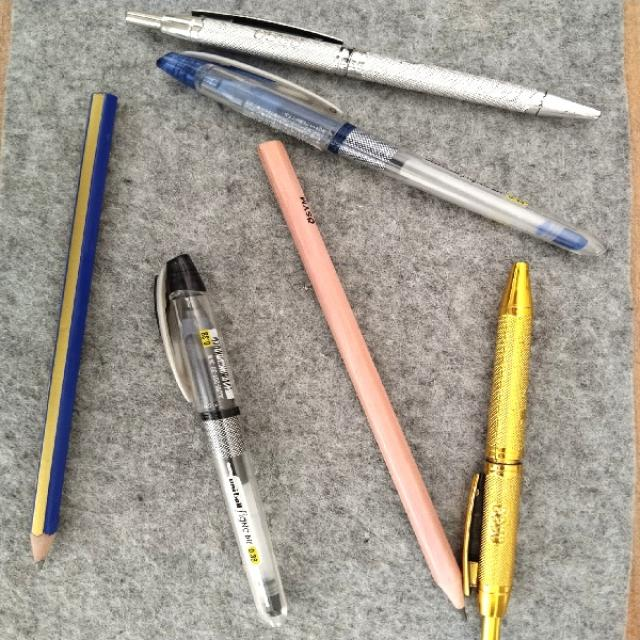pen: (152, 51, 616, 270), (151, 256, 284, 624)
pencil: (253, 136, 471, 626), (26, 96, 114, 565)
signature pen: (119, 7, 604, 124), (460, 261, 531, 637)
